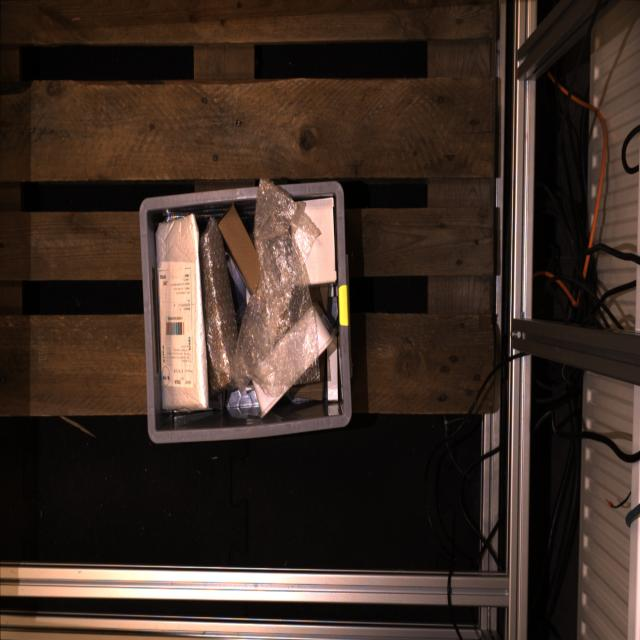BoxInsideWrap: (201, 224, 238, 393)
CardboardBox: (290, 197, 337, 286), (217, 203, 261, 295), (290, 355, 326, 399), (327, 336, 338, 400), (310, 285, 328, 313)
Package: (154, 214, 209, 410)
PackagingAirBags: (235, 180, 320, 396)
PlasticContainer: (251, 303, 336, 416)
